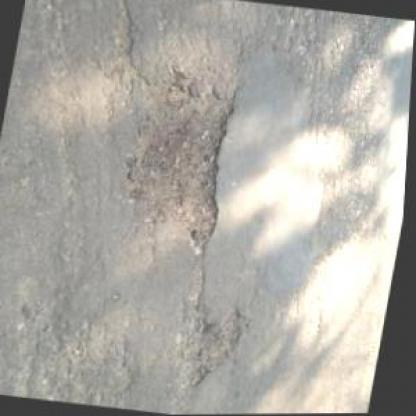pothole: (110, 60, 250, 242), (169, 298, 252, 397)
